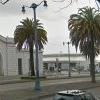Palm tree: (66, 5, 100, 85)
